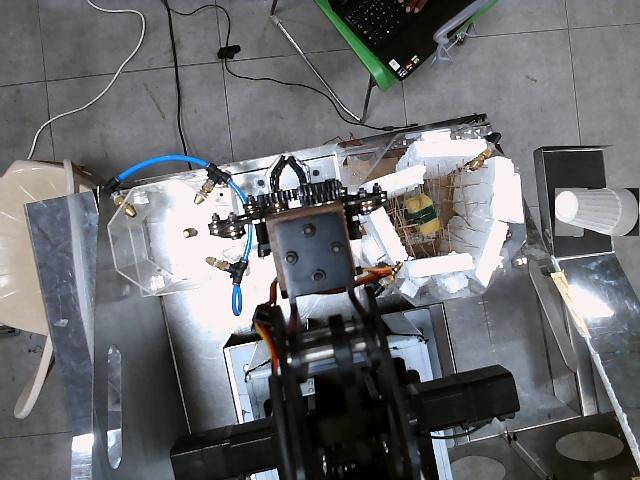cup: (555, 188, 639, 236)
